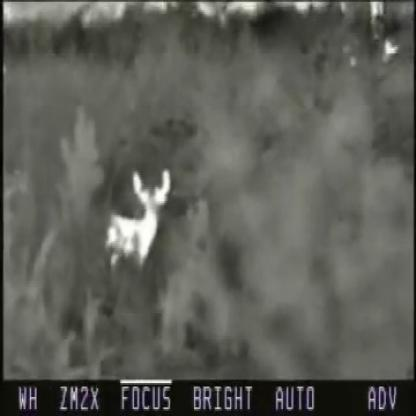rehkitze: (110, 167, 172, 271)
